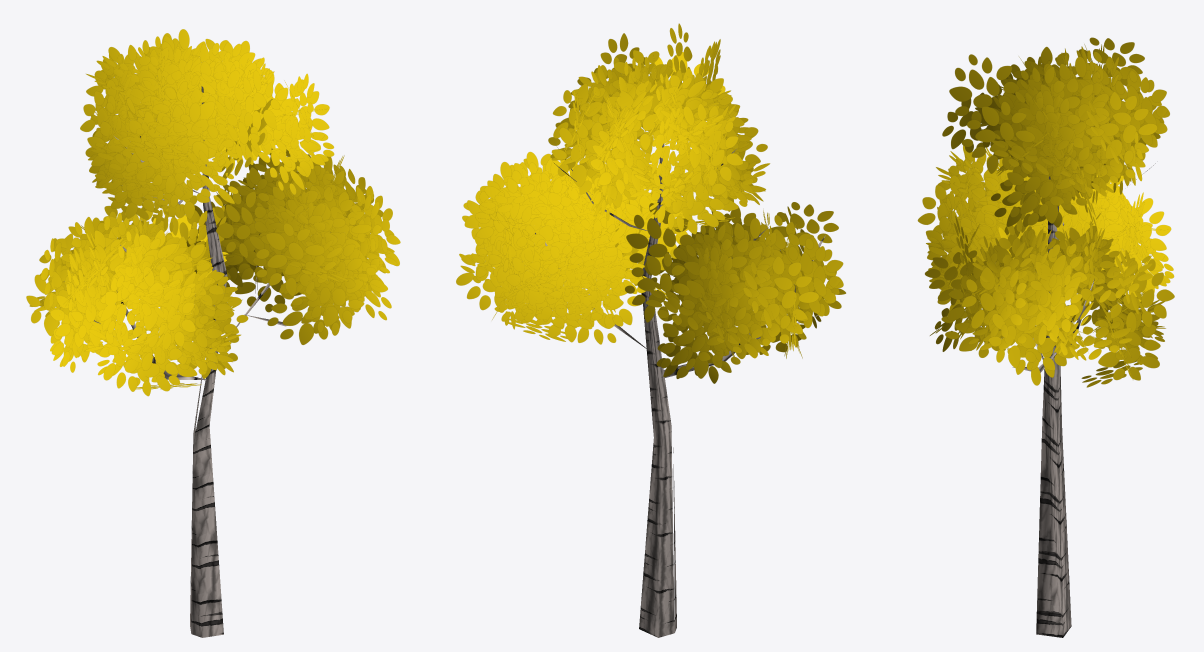
Rendered from Birch_04.glb.
The picture shows the model from 3 angles, left to right: view 1: azimuth 30°, elevation 25°; view 2: azimuth 150°, elevation 25°; view 3: azimuth 270°, elevation 25°; orthographic projection.
Visible parts, largest first — view 1: BirchTree_4; view 2: BirchTree_4; view 3: BirchTree_4.
Boxes of the visible parts, bbox=[...] form: BirchTree_4: bbox=[26, 29, 400, 637]; BirchTree_4: bbox=[456, 23, 845, 637]; BirchTree_4: bbox=[917, 37, 1174, 637].
Bounding box in the file's own units: 2.78 × 4.22 × 1.84.
Materials: 2 (2 with a texture image).
